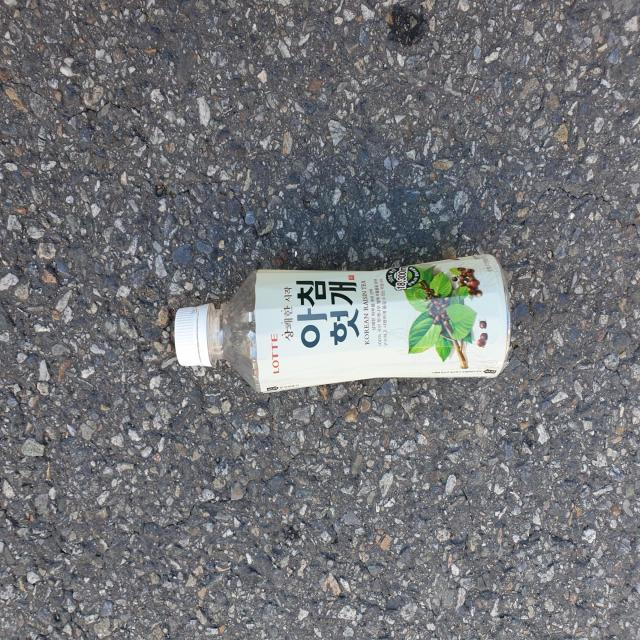plastic: (174, 253, 511, 393)
